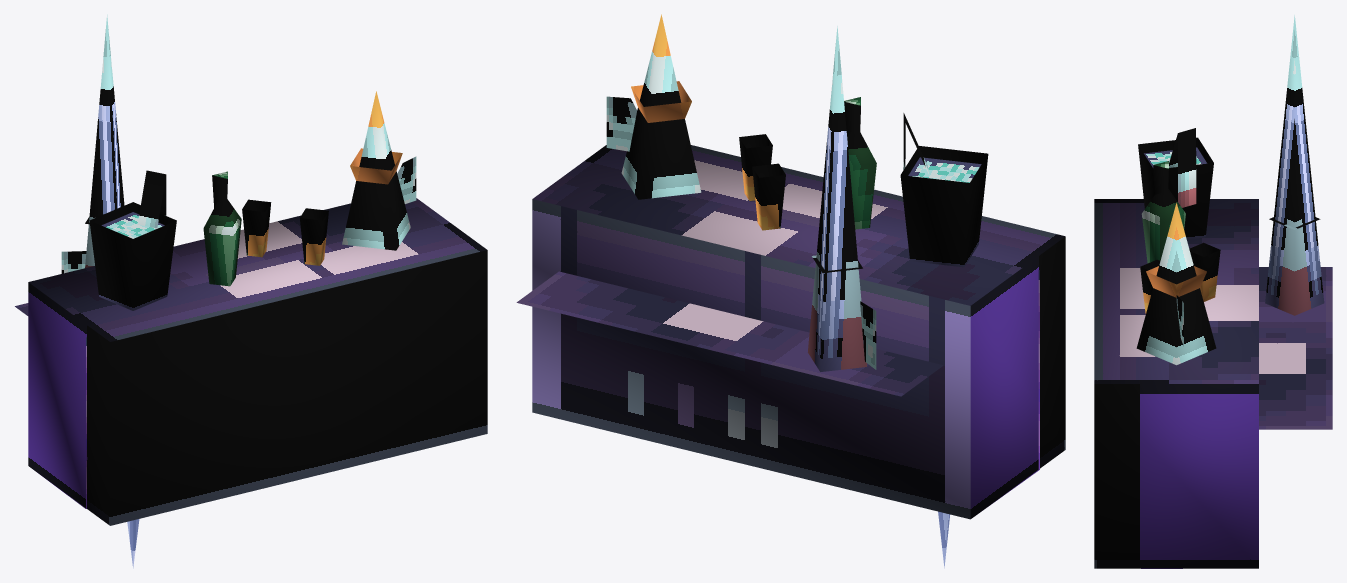
3 views of the same model, side by side, from view 1: azimuth 30°, elevation 25°; view 2: azimuth 150°, elevation 25°; view 3: azimuth 270°, elevation 25° (orthographic). The views are drawn at different scales.
Visible parts, largest first — view 1: 3309IMIG08_06; view 2: 3309IMIG08_06; view 3: 3309IMIG08_06.
Part boxes in pixels (left/top/right/bottom): 3309IMIG08_06: left=15, top=14, right=487, bottom=568; 3309IMIG08_06: left=516, top=14, right=1065, bottom=568; 3309IMIG08_06: left=1094, top=15, right=1332, bottom=568.
Bounding box in the file's own units: 1.75 × 2.21 × 0.9468.
Materials: 4 (4 with a texture image).
